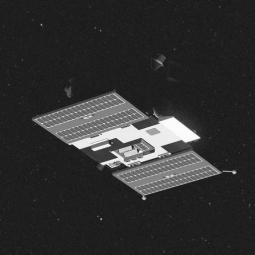proba_2: (62, 31, 232, 201)
